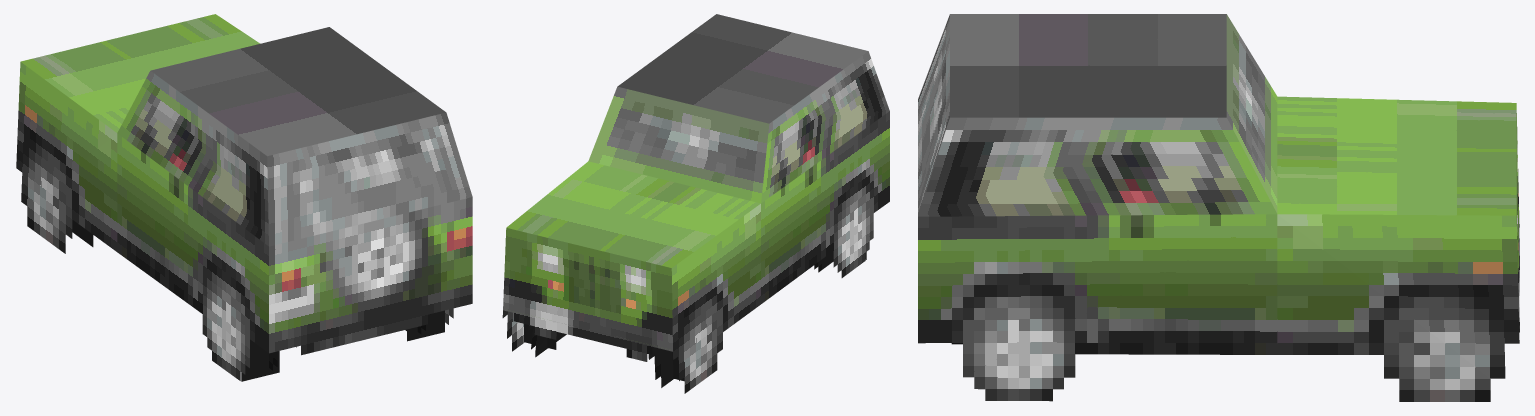
Rendered from car-jeep-plt3.glb.
3 renders of one model, left to right at view 1: azimuth 30°, elevation 25°; view 2: azimuth 150°, elevation 25°; view 3: azimuth 270°, elevation 25°, orthographic. The views are drawn at different scales.
Visible parts, largest first — view 1: car-jeep-plt3; view 2: car-jeep-plt3; view 3: car-jeep-plt3.
Part boxes in pixels (x1,y1,x2,y2): car-jeep-plt3: (16, 14, 472, 381); car-jeep-plt3: (502, 14, 889, 393); car-jeep-plt3: (918, 14, 1519, 401).
Size of the model in its own units: 1.5 by 1.65 by 3.25.
13 materials, 13 textured.
